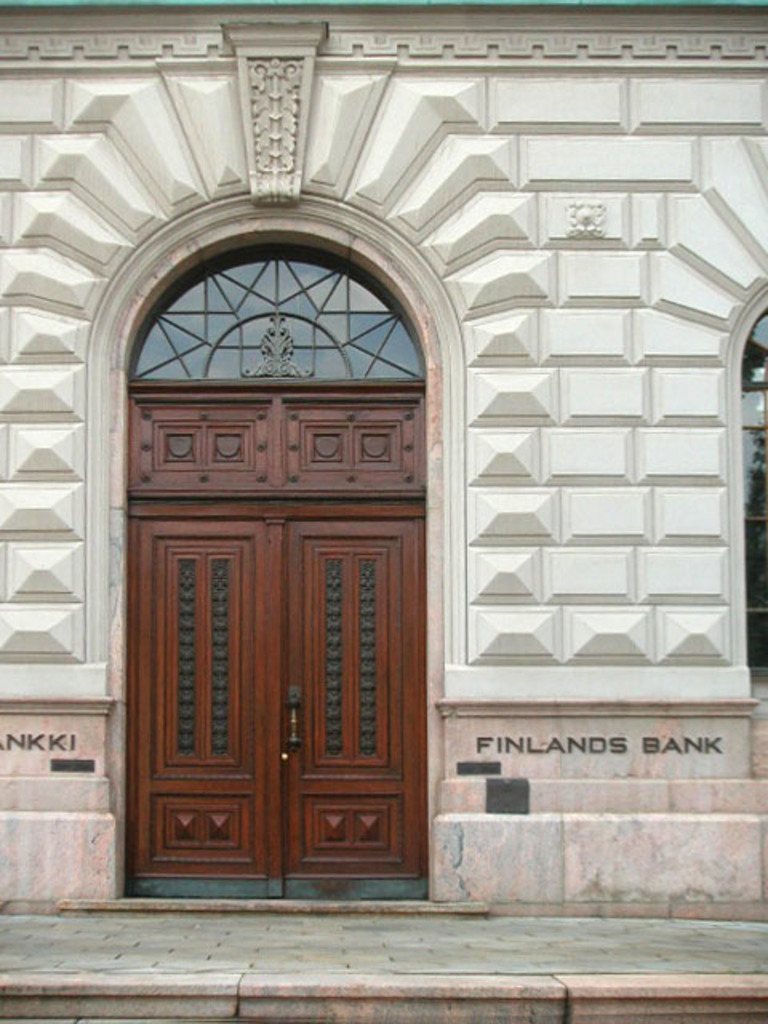door: (143, 523, 273, 873), (287, 518, 413, 870)
handle: (287, 704, 302, 757)
